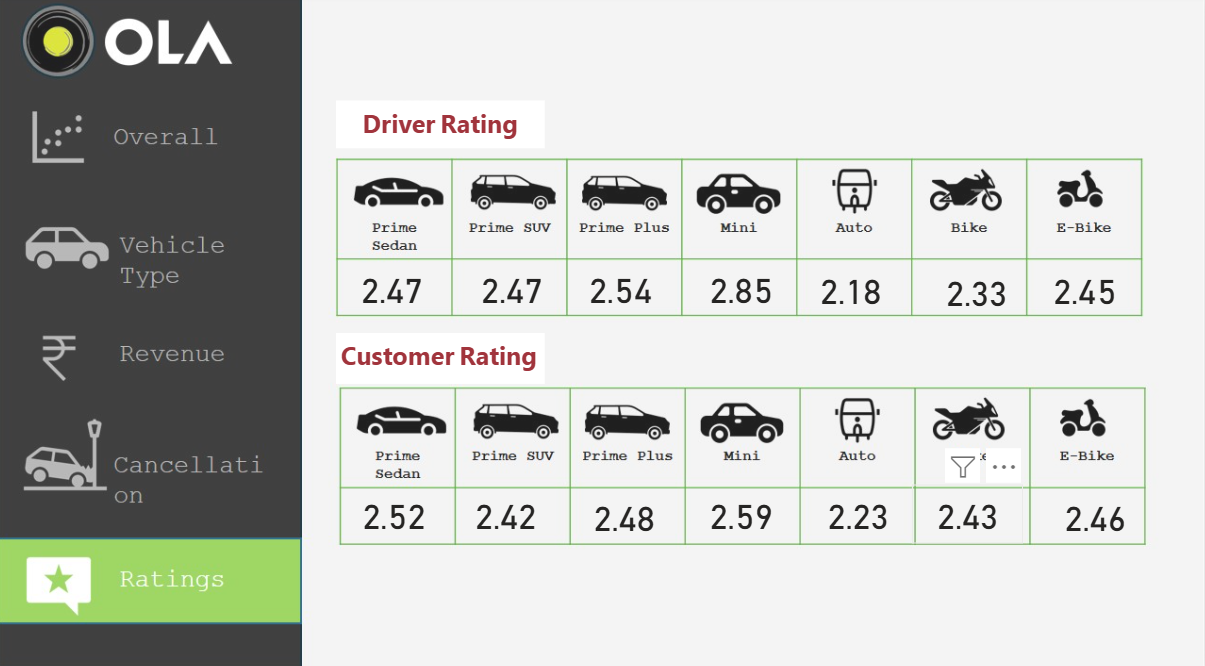

The page's visual inventory and layout, read from the dashboard file:
{"tool":"powerbi","page":{"name":"Page 5","canvas":[1280,720],"ordinal":4},"visuals":[{"type":"actionButton","box":[27,215.9,254,103.2],"z":0},{"type":"actionButton","box":[27,449.2,254,103.2],"z":1000},{"type":"actionButton","box":[27,346,254,103.2],"z":2000},{"type":"card","fields":{"Values":["Avg(OLA_Booking.Driver_Ratings)"]},"box":[354,277.8,127,65.1],"z":3000},{"type":"card","fields":{"Values":["Avg(OLA_Booking.Driver_Ratings)"]},"box":[971.4,281,133.3,65.1],"z":4000},{"type":"card","fields":{"Values":["Avg(OLA_Booking.Driver_Ratings)"]},"box":[598.4,277.8,125.4,65.1],"z":5000},{"type":"card","fields":{"Values":["Avg(OLA_Booking.Driver_Ratings)"]},"box":[838.1,279.4,133.3,65.1],"z":6000},{"type":"card","fields":{"Values":["Avg(OLA_Booking.Driver_Ratings)"]},"box":[723.8,277.8,130.2,65.1],"z":7000},{"type":"card","fields":{"Values":["Avg(OLA_Booking.Driver_Ratings)"]},"box":[1087.3,279.4,130.2,65.1],"z":8000},{"type":"card","fields":{"Values":["Avg(OLA_Booking.Driver_Ratings)"]},"box":[481,277.8,130.2,65.1],"z":9000},{"type":"card","fields":{"Values":["Avg(OLA_Booking.Customer_Rating)"]},"box":[358.7,520.6,122.2,61.9],"z":10000},{"type":"card","fields":{"Values":["Avg(OLA_Booking.Customer_Rating)"]},"box":[481,520.6,117.5,61.9],"z":11000},{"type":"card","fields":{"Values":["Avg(OLA_Booking.Customer_Rating)"]},"box":[606.3,522.2,117.5,61.9],"z":12000},{"type":"card","fields":{"Values":["Avg(OLA_Booking.Customer_Rating)"]},"box":[969.8,520.6,117.5,61.9],"z":13000},{"type":"card","fields":{"Values":["Avg(OLA_Booking.Customer_Rating)"]},"box":[854,520.6,117.5,61.9],"z":14000},{"type":"card","fields":{"Values":["Avg(OLA_Booking.Customer_Rating)"]},"box":[730.2,520.6,117.5,61.9],"z":15000},{"type":"card","fields":{"Values":["Avg(OLA_Booking.Customer_Rating)"]},"box":[1104.8,522.2,117.5,61.9],"z":16000},{"type":"actionButton","box":[27,211.1,254,103.2],"z":17000},{"type":"actionButton","box":[27,112.7,254,103.2],"z":18000},{"type":"textbox","box":[359.5,112.9,221.1,50.9],"z":19000},{"type":"textbox","box":[359.5,359.5,221.1,54.1],"z":20000}]}

Visuals, with their boxes on the page's 1280x720 design canvas (x1, y1, x2, y2). These are canvas units, not pixel positions in the 1205x666 screenshot, which may show the page scaled, cropped or inside an application window:
actionButton: left=27, top=216, right=281, bottom=319
actionButton: left=27, top=449, right=281, bottom=552
actionButton: left=27, top=346, right=281, bottom=449
card - Avg(OLA_Booking.Driver_Ratings): left=354, top=278, right=481, bottom=343
card - Avg(OLA_Booking.Driver_Ratings): left=971, top=281, right=1105, bottom=346
card - Avg(OLA_Booking.Driver_Ratings): left=598, top=278, right=724, bottom=343
card - Avg(OLA_Booking.Driver_Ratings): left=838, top=279, right=971, bottom=344
card - Avg(OLA_Booking.Driver_Ratings): left=724, top=278, right=854, bottom=343
card - Avg(OLA_Booking.Driver_Ratings): left=1087, top=279, right=1218, bottom=344
card - Avg(OLA_Booking.Driver_Ratings): left=481, top=278, right=611, bottom=343
card - Avg(OLA_Booking.Customer_Rating): left=359, top=521, right=481, bottom=582
card - Avg(OLA_Booking.Customer_Rating): left=481, top=521, right=598, bottom=582
card - Avg(OLA_Booking.Customer_Rating): left=606, top=522, right=724, bottom=584
card - Avg(OLA_Booking.Customer_Rating): left=970, top=521, right=1087, bottom=582
card - Avg(OLA_Booking.Customer_Rating): left=854, top=521, right=972, bottom=582
card - Avg(OLA_Booking.Customer_Rating): left=730, top=521, right=848, bottom=582
card - Avg(OLA_Booking.Customer_Rating): left=1105, top=522, right=1222, bottom=584
actionButton: left=27, top=211, right=281, bottom=314
actionButton: left=27, top=113, right=281, bottom=216
textbox: left=360, top=113, right=581, bottom=164
textbox: left=360, top=360, right=581, bottom=414
